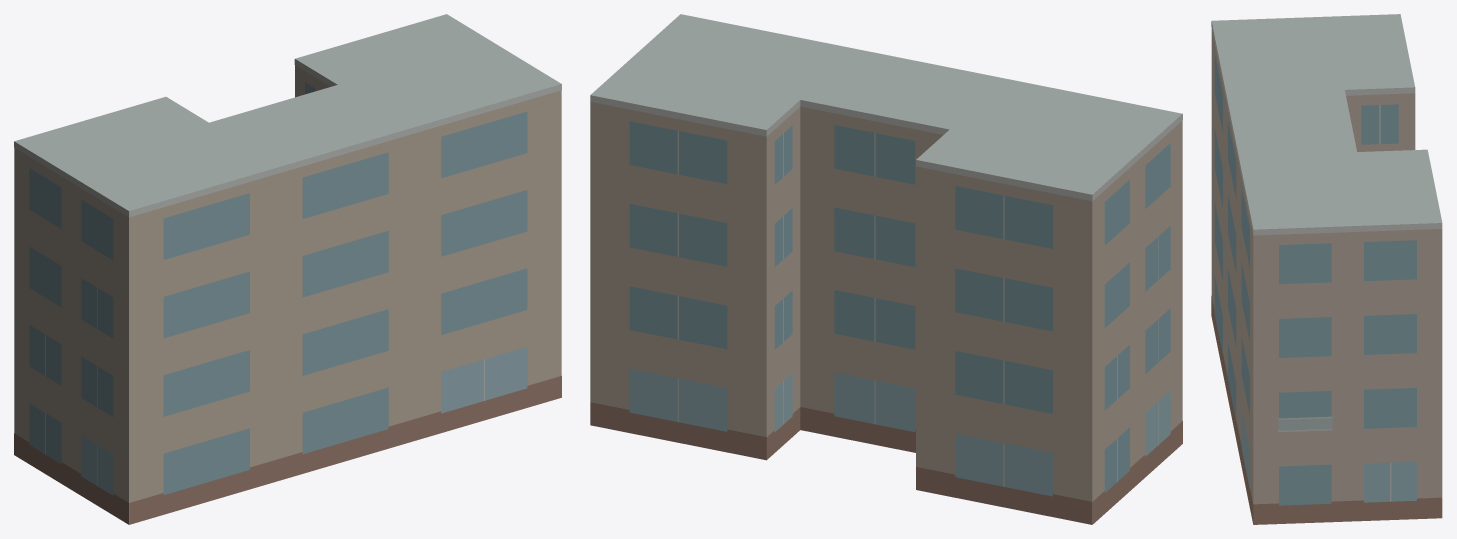
The model's file is survey-upis-32606454.glb.
3 renders of one model, left to right at view 1: azimuth 30°, elevation 25°; view 2: azimuth 150°, elevation 25°; view 3: azimuth 270°, elevation 25°, orthographic. The views are drawn at different scales.
Parts seen in each view (by area): view 1: survey-upis-32606454.tmp; view 2: survey-upis-32606454.tmp; view 3: survey-upis-32606454.tmp.
Boxes of the visible parts, box(x1,y1,x2,y2) form: survey-upis-32606454.tmp: box(14, 14, 561, 524); survey-upis-32606454.tmp: box(590, 14, 1182, 524); survey-upis-32606454.tmp: box(1211, 14, 1442, 524).
Size of the model in its own units: 19.17 by 12.23 by 8.68.
